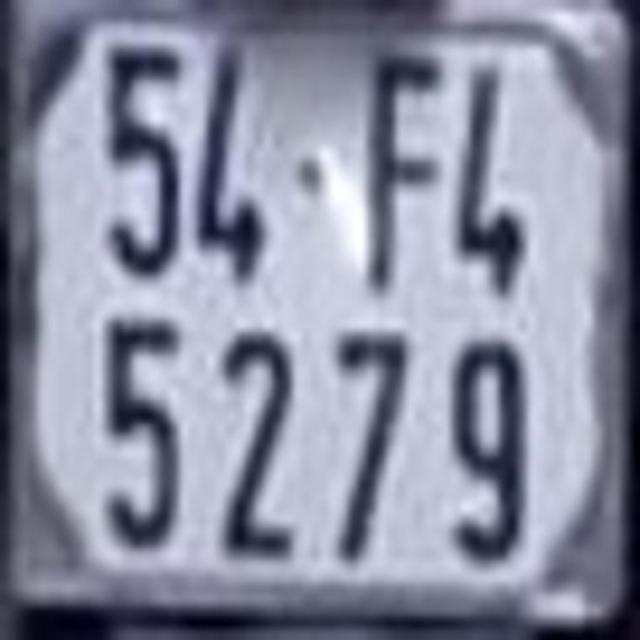2: (221, 326, 294, 558)
4: (460, 64, 528, 307), (197, 41, 264, 273)
5: (105, 306, 187, 549), (107, 42, 183, 273)
7: (334, 322, 411, 551)
9: (449, 328, 527, 562)
F: (369, 50, 446, 303)
